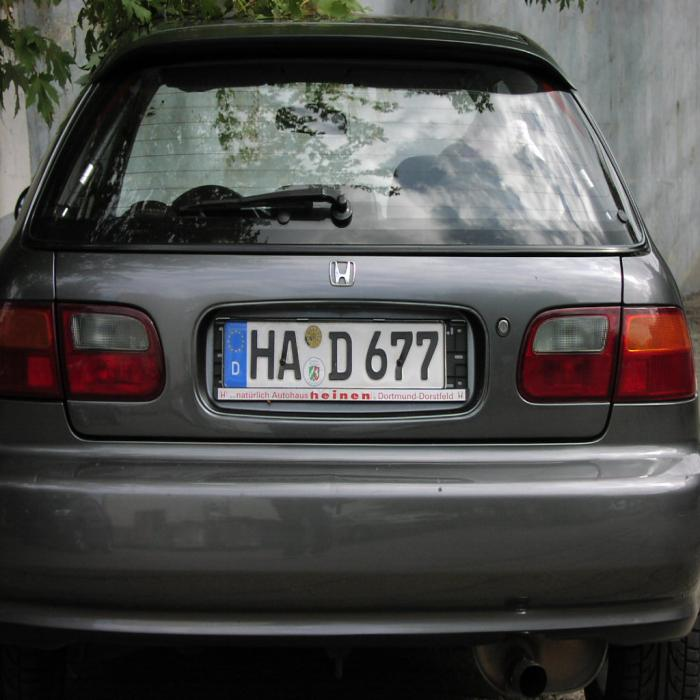number_plate: (219, 322, 445, 386)
